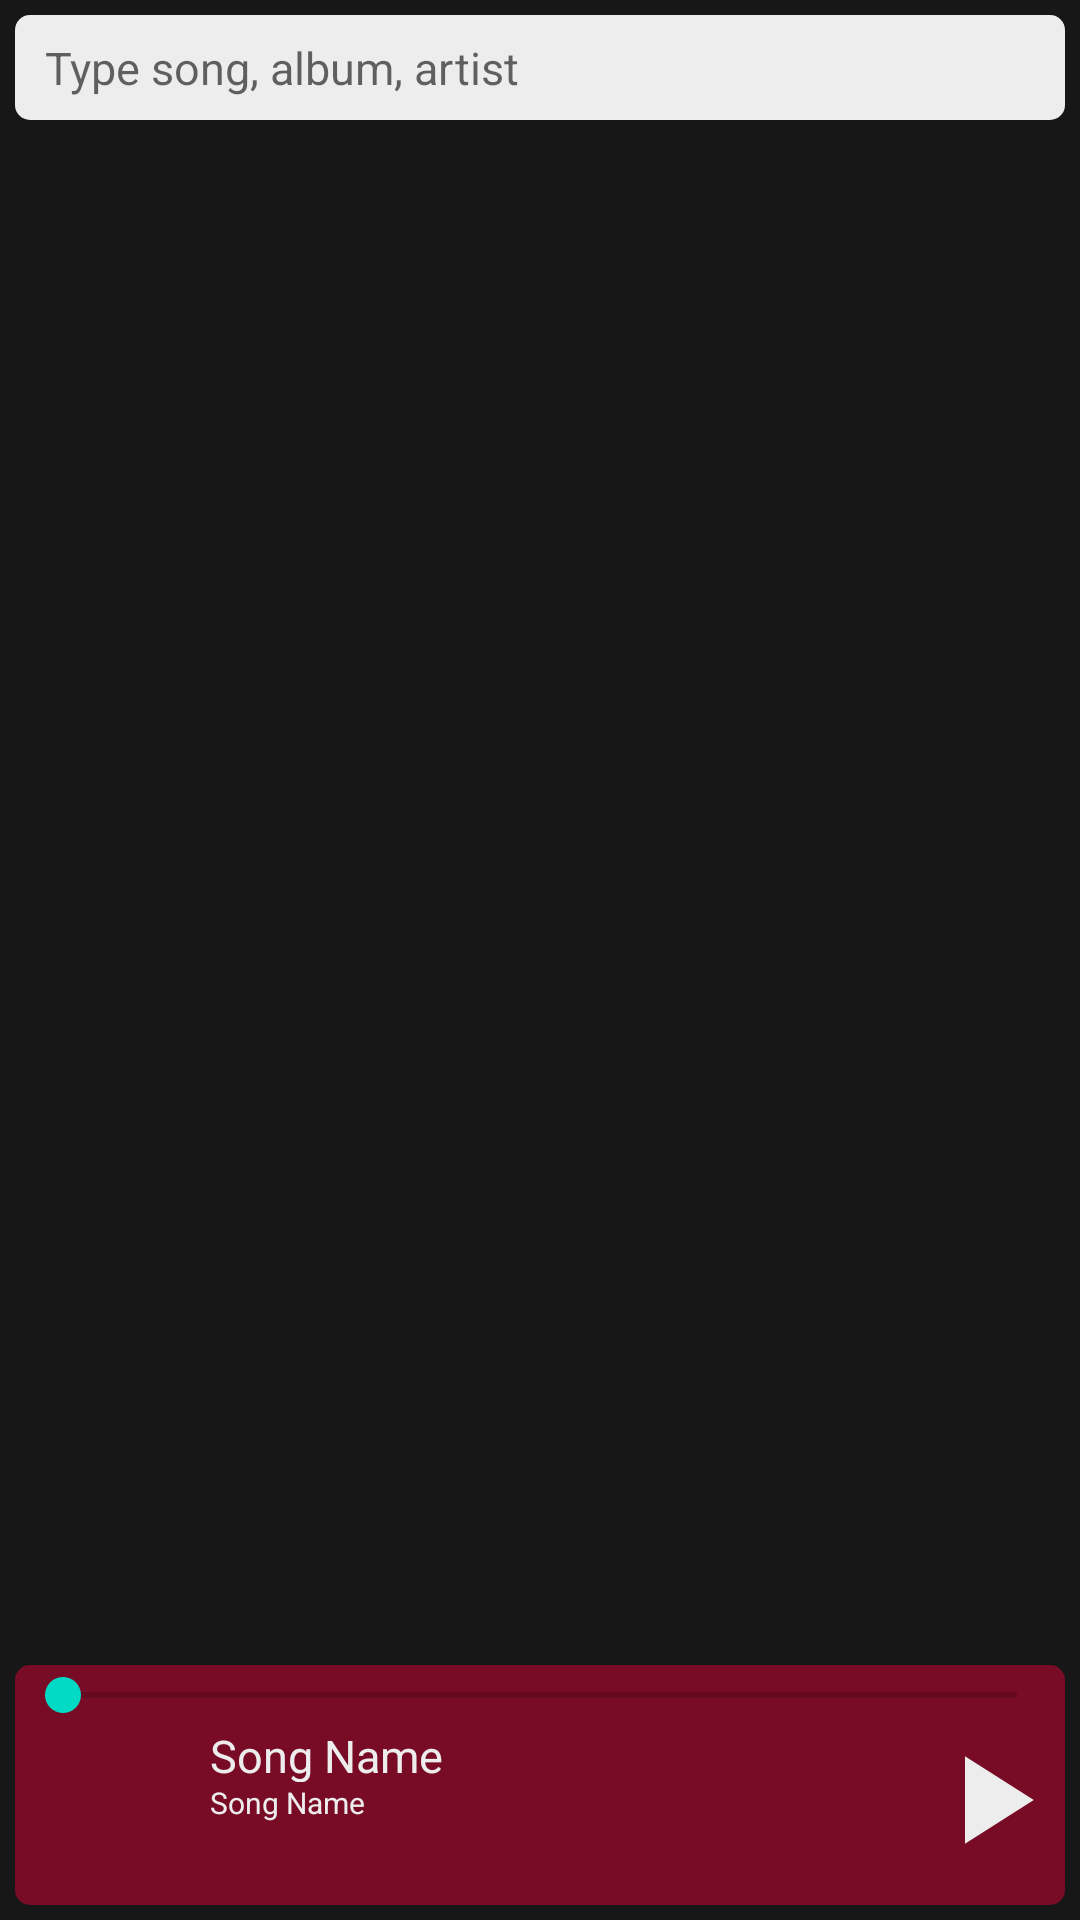

Icon bounding boxes for this 1080 × 1920 phone screenshot, format (x1, y1, x2, y2):
play: (965, 1756, 1034, 1844)
